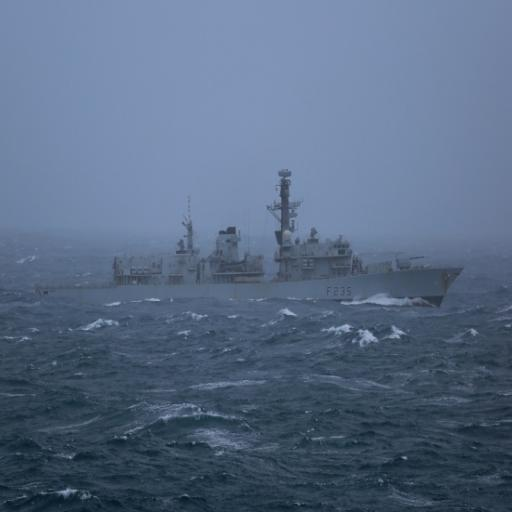Fragata: (33, 160, 467, 315)
